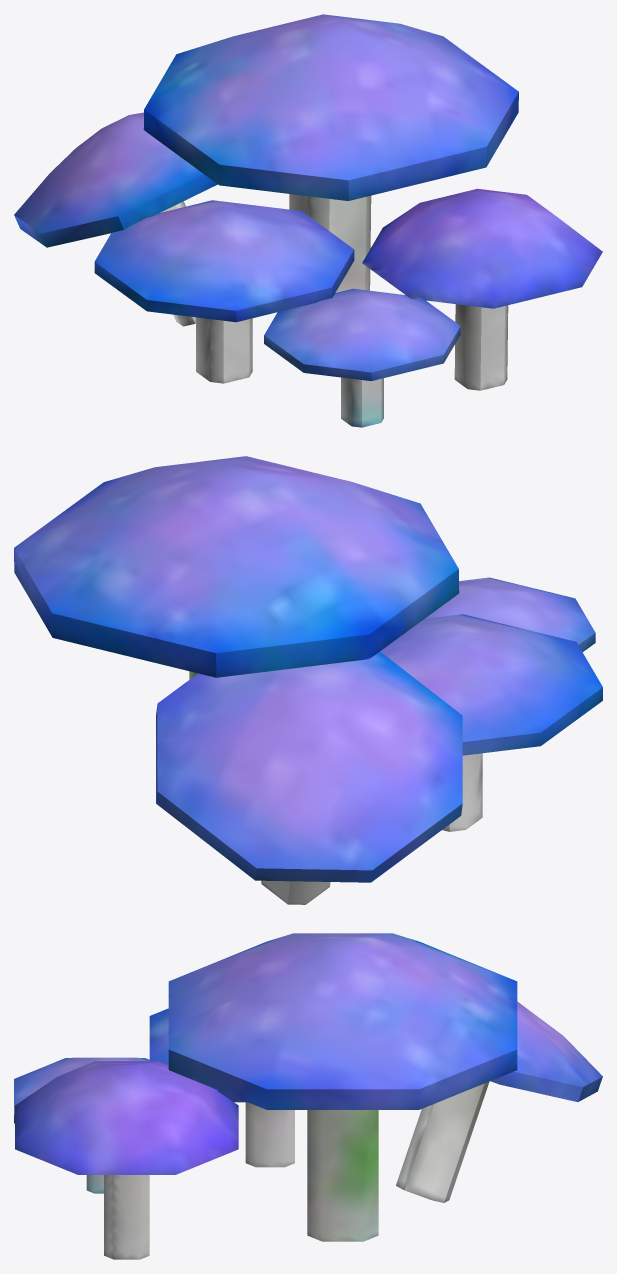
Rendered from mushroom_lowpoly.glb.
3 renders of one model, top to bottom at view 1: azimuth 30°, elevation 25°; view 2: azimuth 150°, elevation 25°; view 3: azimuth 270°, elevation 25°, orthographic. The views are drawn at different scales.
Visible parts, largest first — view 1: Object_3; view 2: Object_3; view 3: Object_3.
Part boxes in pixels (bbox=[...]): Object_3: bbox=[14, 14, 602, 427]; Object_3: bbox=[14, 456, 602, 904]; Object_3: bbox=[14, 933, 602, 1259].
Bounding box in the file's own units: 0.9394 × 0.6725 × 1.2.
1 material, 1 textured.
